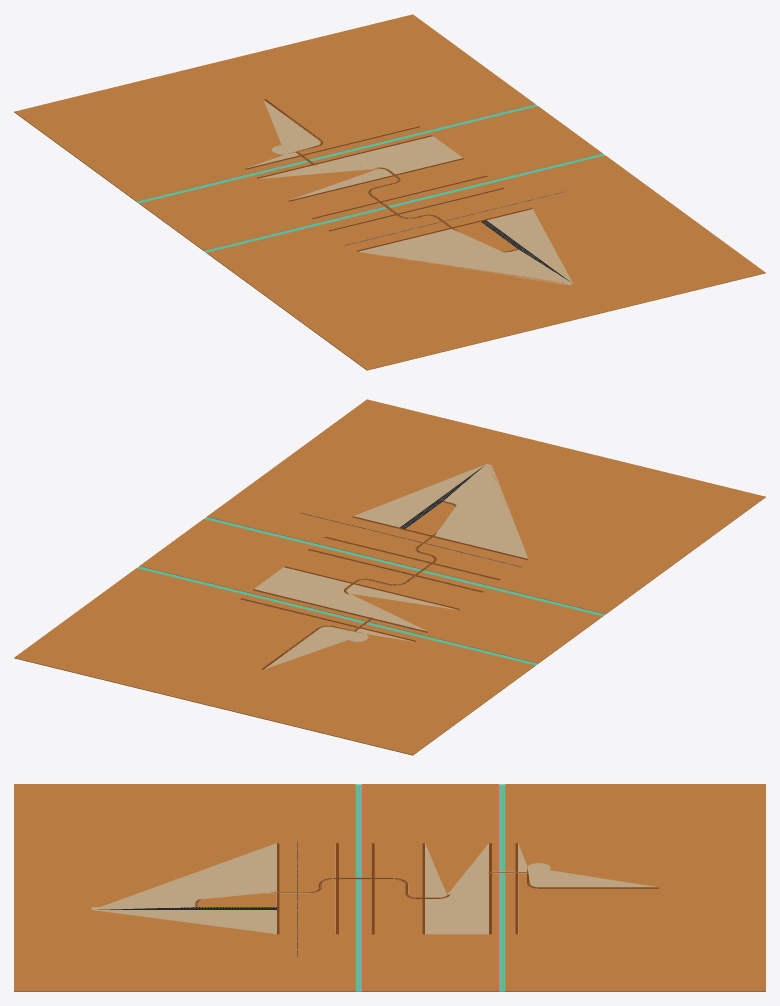
File: 29.06_sssss.fbx
3 views of the same model, one above another, from view 1: azimuth 30°, elevation 25°; view 2: azimuth 150°, elevation 25°; view 3: azimuth 270°, elevation 25° (orthographic). The views are drawn at different scales.
Visible parts, largest first — view 1: 29.06; view 2: 29.06; view 3: 29.06.
Part boxes in pixels (x1=…): 29.06: x1=14, y1=14, x2=765, y2=370; 29.06: x1=14, y1=399, x2=765, y2=755; 29.06: x1=14, y1=784, x2=765, y2=991.
Bounding box in the file's own units: 4704 × 8.66 × 7209.
10 materials, 10 textured.
